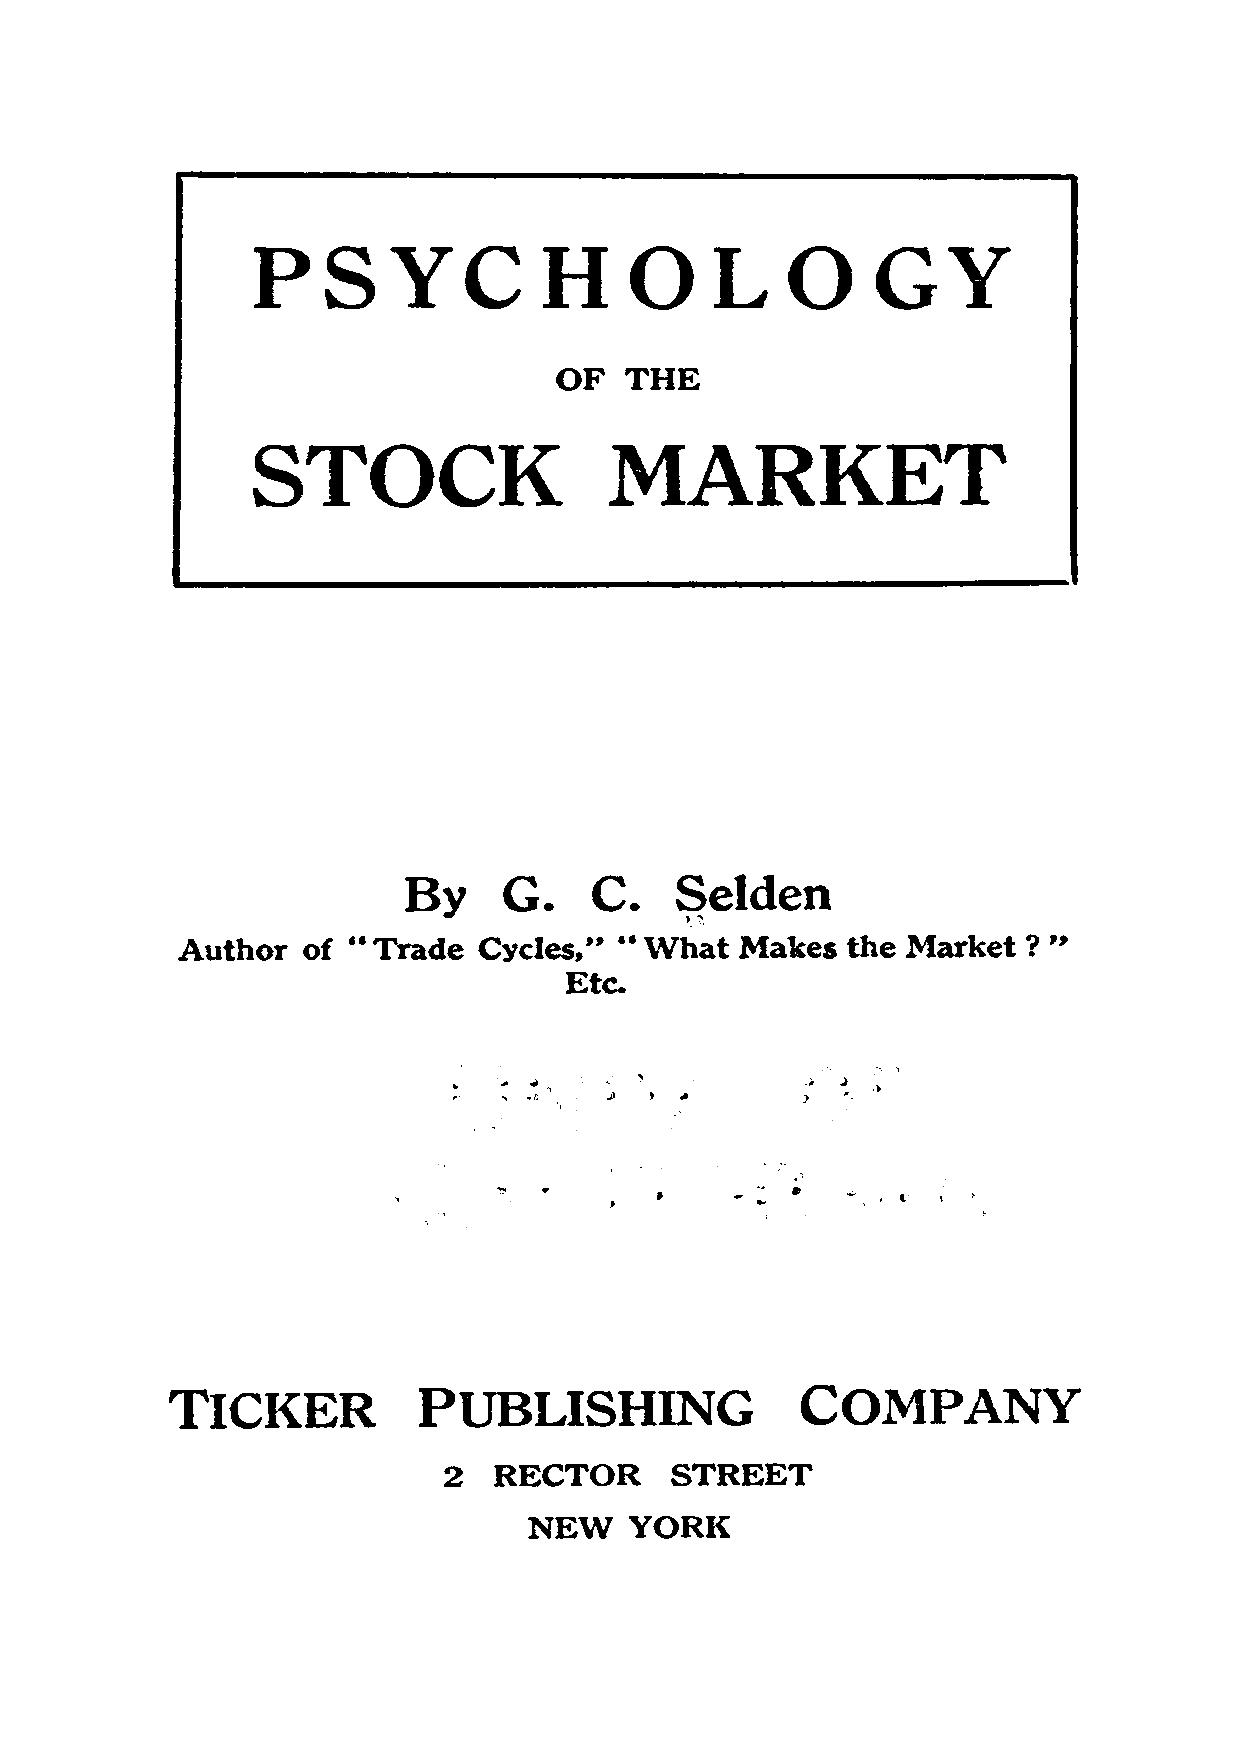author: (400, 872, 833, 921)
title: (248, 240, 1009, 509)
